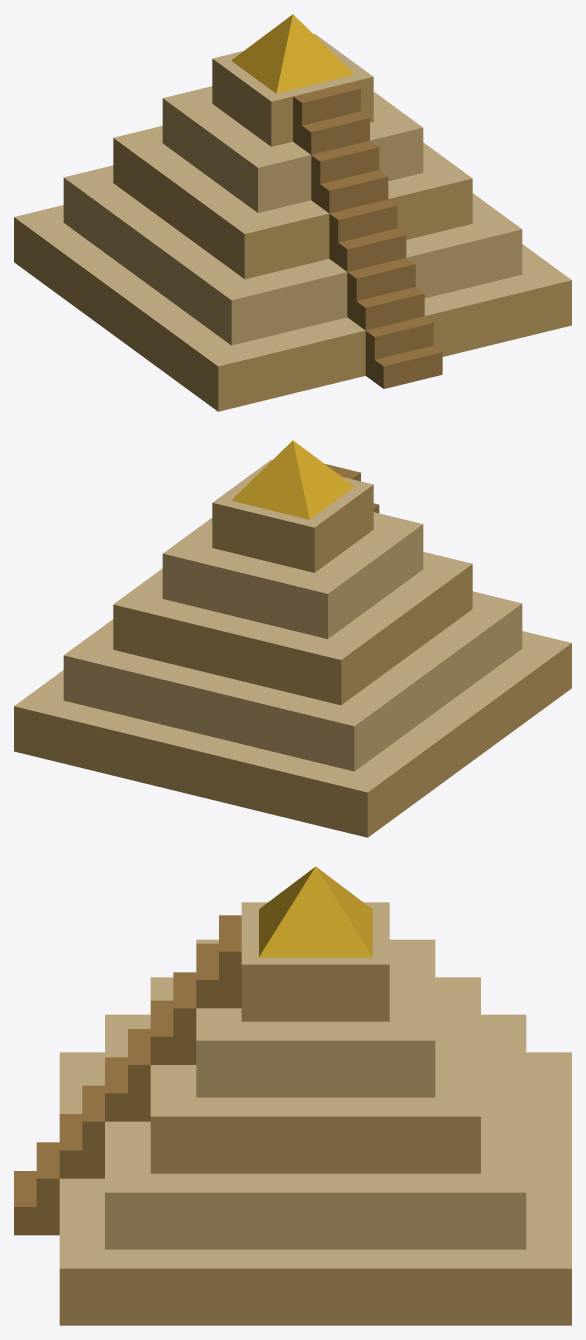
The picture shows the model from 3 angles, top to bottom: view 1: azimuth 30°, elevation 25°; view 2: azimuth 150°, elevation 25°; view 3: azimuth 270°, elevation 25°; orthographic projection. The views are drawn at different scales.
Visible parts, largest first — view 1: tier1, tier2, stairs, tier3, tier4, tier5, capstone; view 2: tier1, tier2, tier3, tier4, tier5, capstone; view 3: tier1, tier2, tier3, tier4, stairs, tier5, capstone.
Boxes of the visible parts, <box> form: tier1: <box>14,205,571,411</box>; tier2: <box>63,165,522,345</box>; stairs: <box>293,82,442,388</box>; tier3: <box>113,126,472,279</box>; tier4: <box>162,86,423,212</box>; tier5: <box>212,33,373,146</box>; capstone: <box>231,14,354,93</box>; tier1: <box>14,631,571,837</box>; tier2: <box>63,591,522,771</box>; tier3: <box>113,552,472,705</box>; tier4: <box>162,512,423,638</box>; tier5: <box>212,459,373,572</box>; capstone: <box>231,440,354,519</box>; tier1: <box>59,1052,571,1325</box>; tier2: <box>105,1014,526,1249</box>; tier3: <box>150,977,480,1173</box>; tier4: <box>196,939,435,1097</box>; stairs: <box>14,915,241,1235</box>; tier5: <box>241,902,389,1021</box>; capstone: <box>259,866,372,957</box>.
Size of the model in its own units: 0.9 by 0.68 by 0.98.
